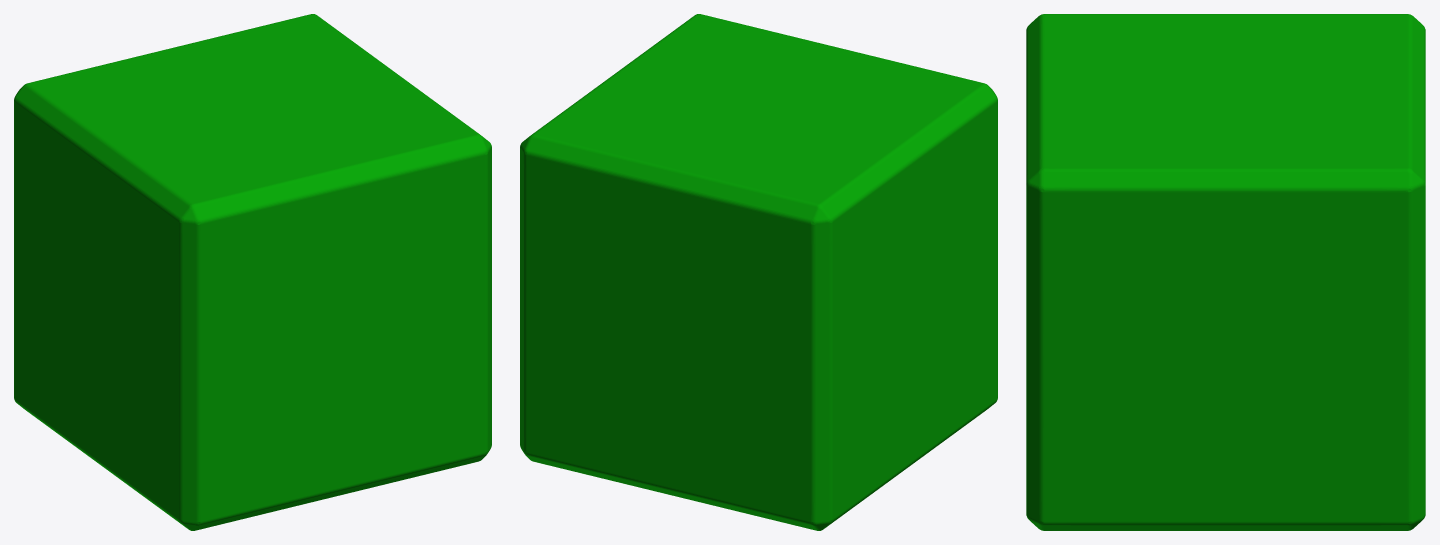
The model's file is cube_detailed.obj.
The picture shows the model from 3 angles, left to right: view 1: azimuth 30°, elevation 25°; view 2: azimuth 150°, elevation 25°; view 3: azimuth 270°, elevation 25°; orthographic projection. The views are drawn at different scales.
Parts seen in each view (by area): view 1: Object.1; view 2: Object.1; view 3: Object.1.
Boxes of the visible parts, x1,y1,x2,y2 form: Object.1: (14, 14, 491, 530); Object.1: (520, 14, 997, 530); Object.1: (1026, 14, 1425, 530).
Bounding box in the file's own units: 1 × 1 × 1.
